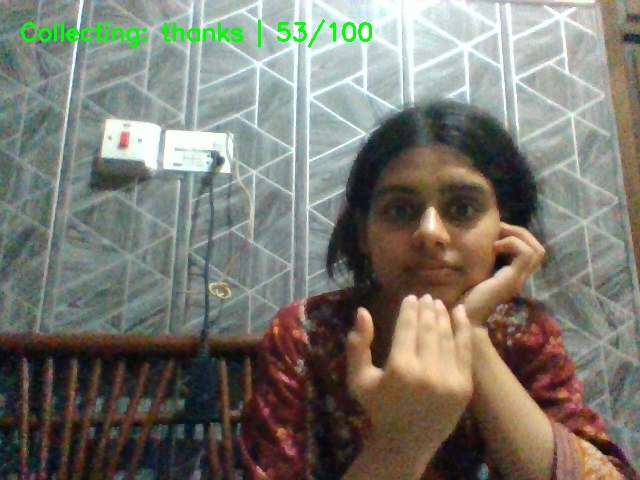thanks: (342, 289, 516, 480)
